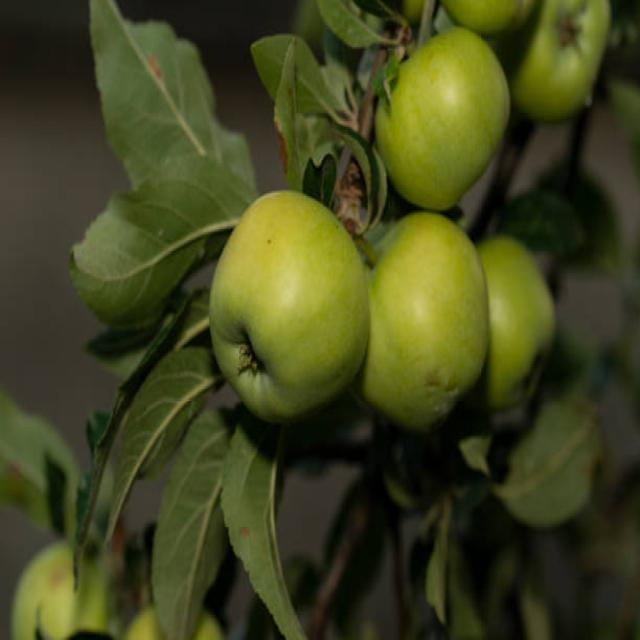Unripe: (208, 190, 368, 426), (364, 210, 492, 426), (374, 27, 512, 212)
